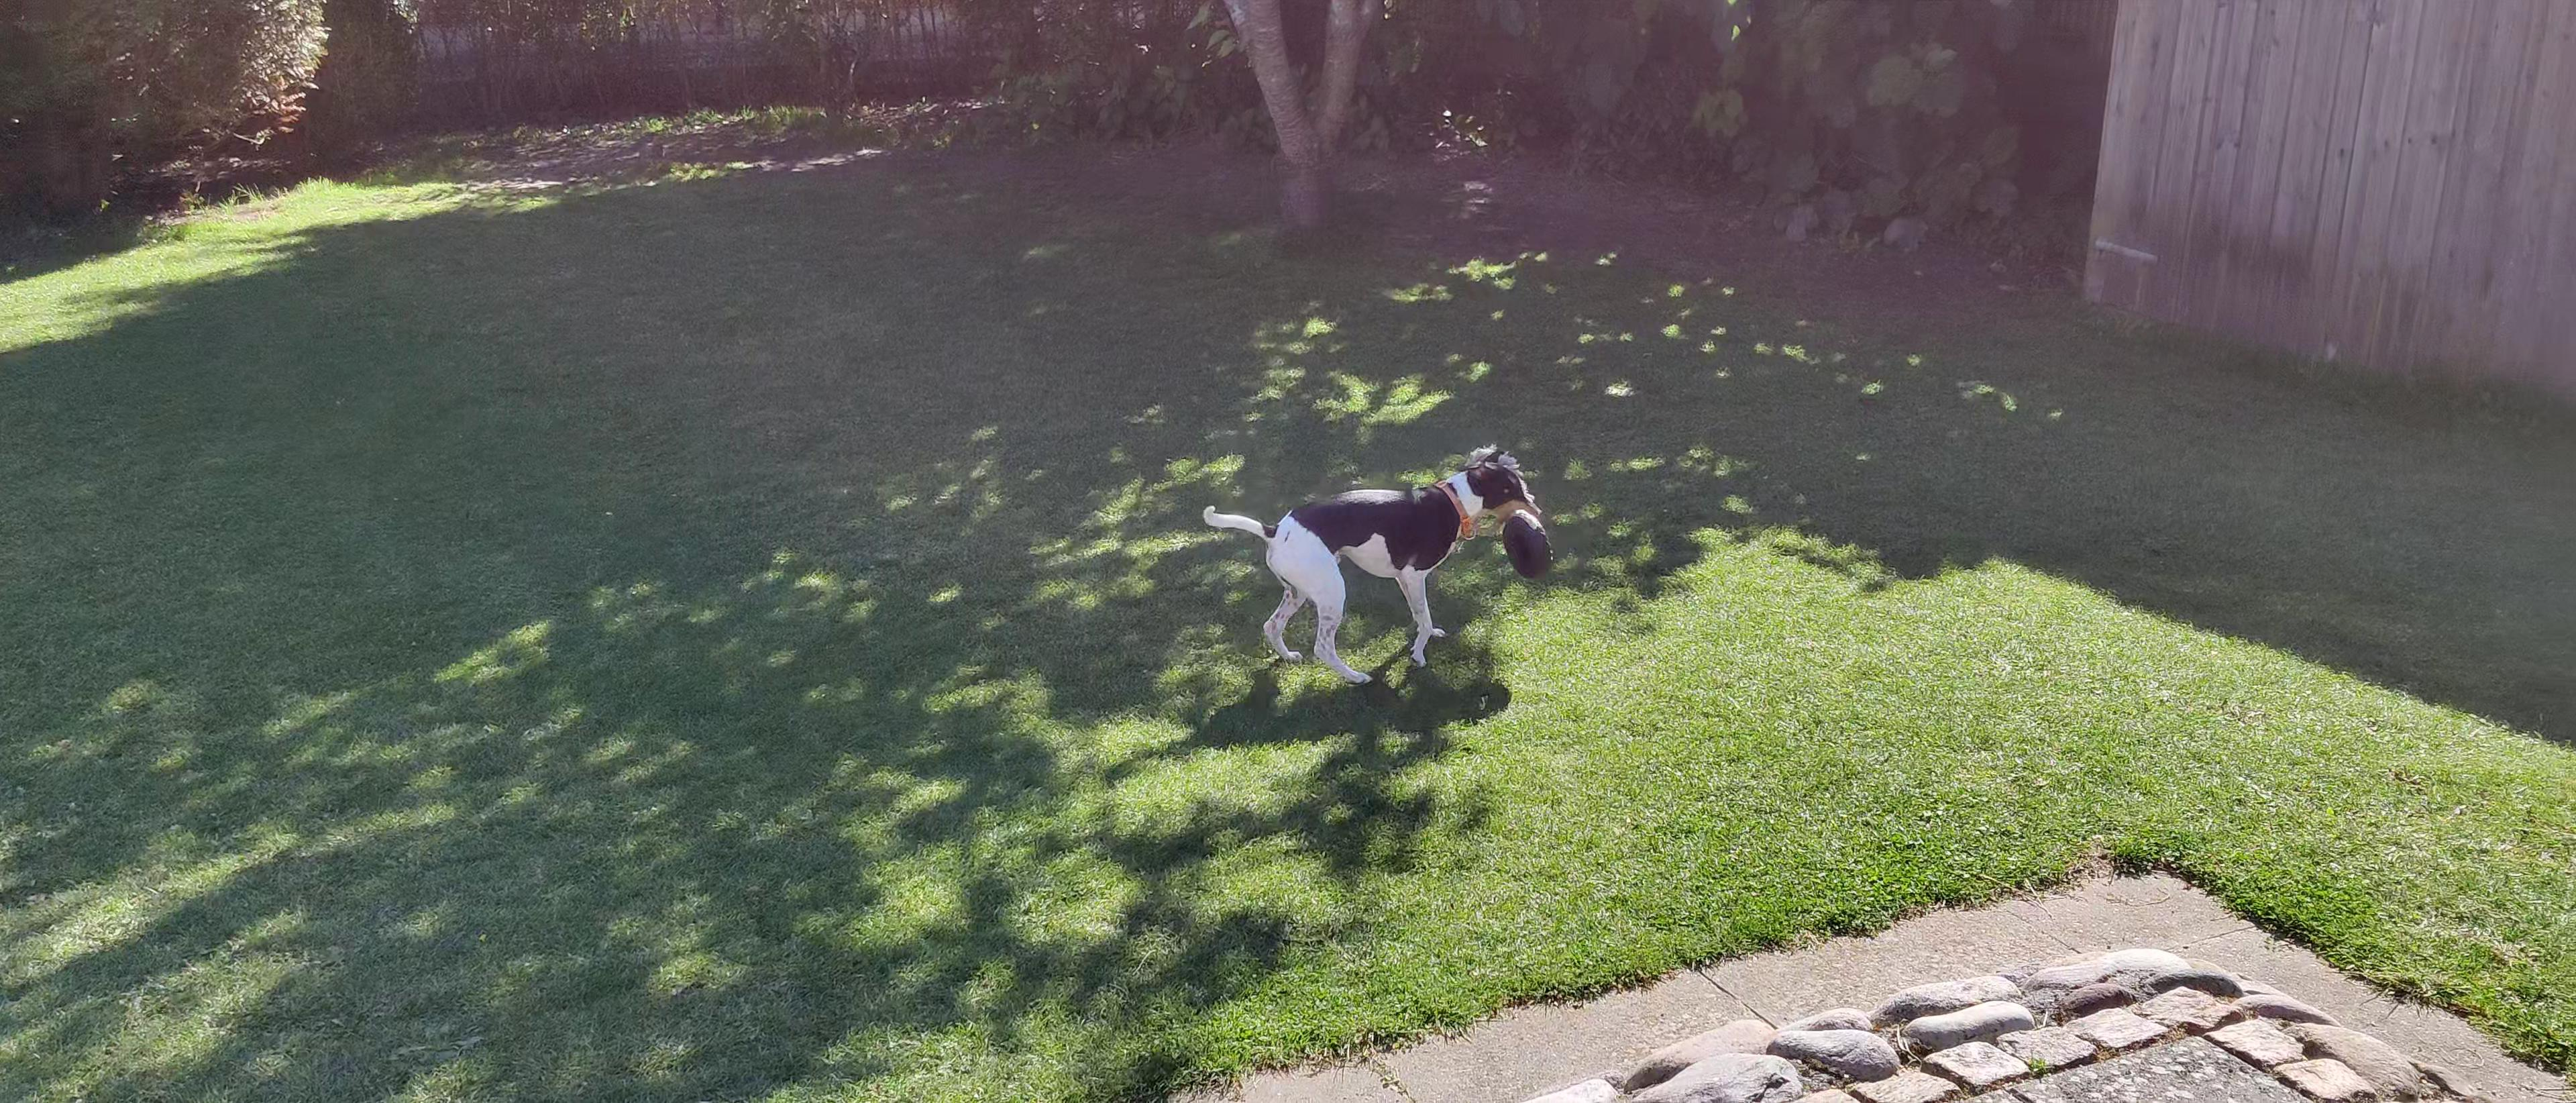Dog: (1193, 444, 1548, 687)
